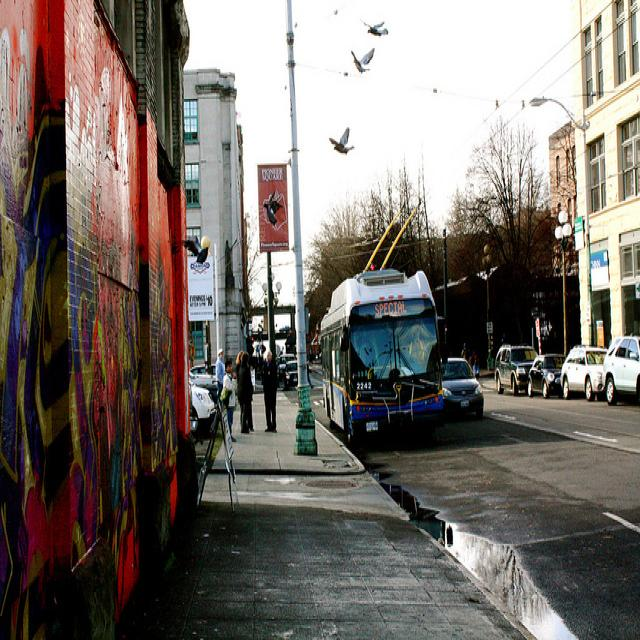Vehicle: (320, 271, 448, 435), (438, 352, 487, 427), (601, 333, 640, 404), (560, 344, 608, 400), (494, 344, 538, 396), (527, 353, 566, 400), (189, 386, 217, 433), (190, 373, 219, 405), (278, 354, 297, 380), (283, 362, 298, 388), (190, 363, 217, 375)
